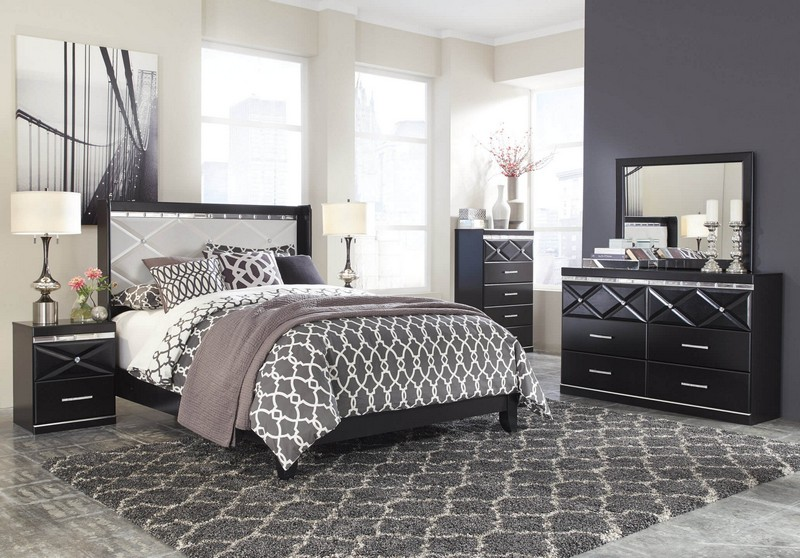bed: (96, 195, 535, 469)
lamp: (9, 183, 81, 329), (319, 197, 376, 290)
